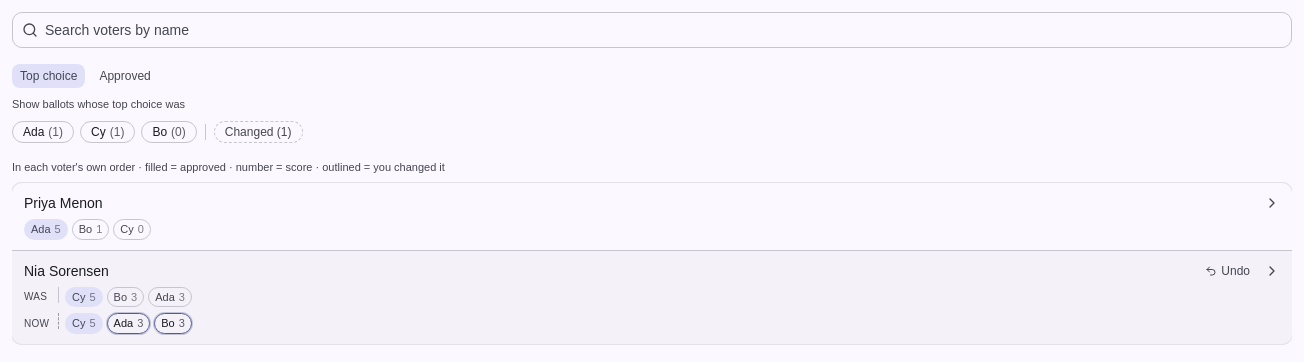
BallotPicker filters › isolates the changed ballots on request
The width and height of the screenshot is (1304, 362).
What coordinates should you click on to do the following:
click the button "Changed (1)"
I would click on:
 (258, 132)
Its box is [214, 120, 302, 142].
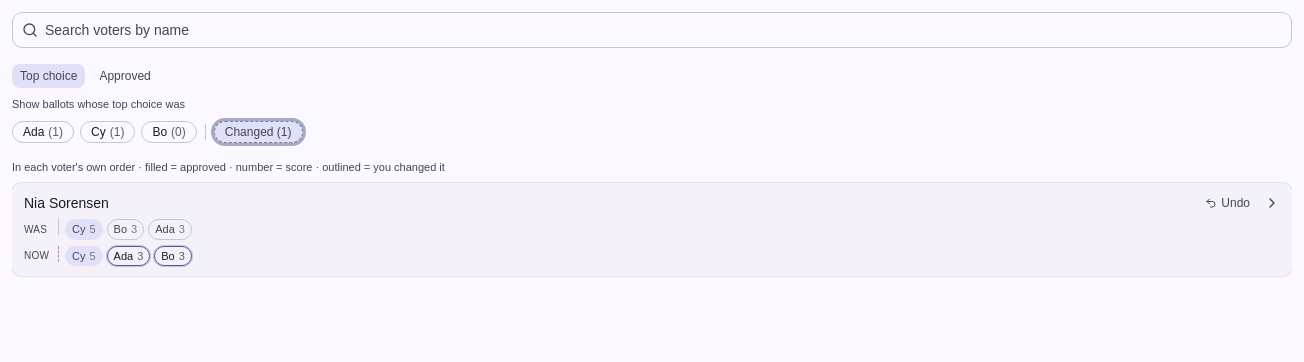
Check: the button "Nia Sorensen" is shown, box [24, 193, 1191, 213]
Check: the button "Priya Menon" is gone
